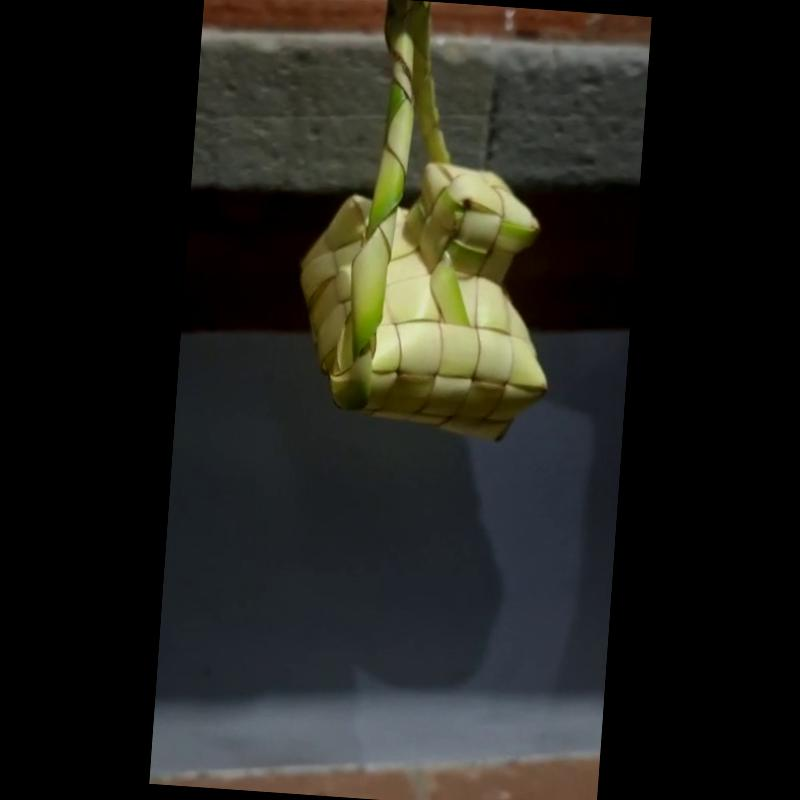Tipat Gong: (299, 0, 546, 441)
